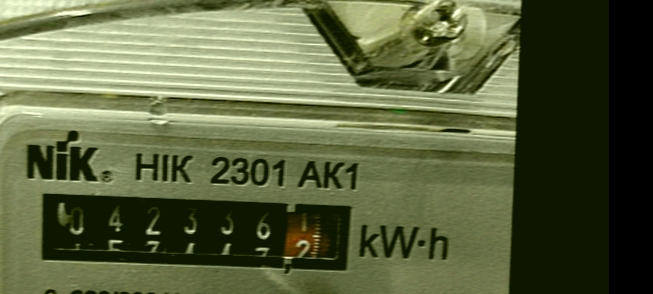0: (66, 202, 86, 235)
1: (296, 205, 309, 232)
2: (142, 201, 164, 236), (292, 236, 310, 258)
3: (179, 201, 198, 234), (218, 203, 236, 236)
4: (106, 199, 124, 232)
6: (253, 207, 274, 241)
screen: (26, 177, 365, 282)
